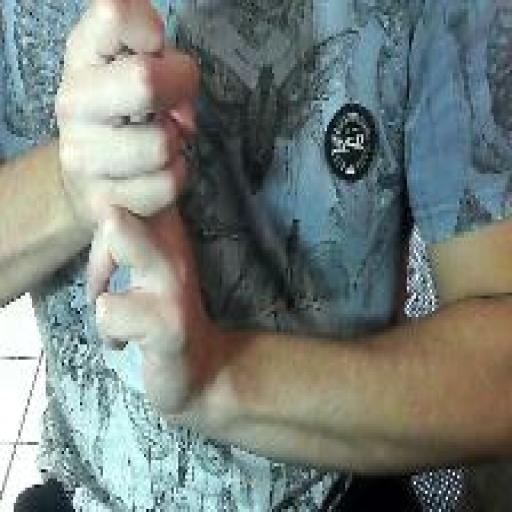Ne -rat-: (50, 0, 210, 433)
